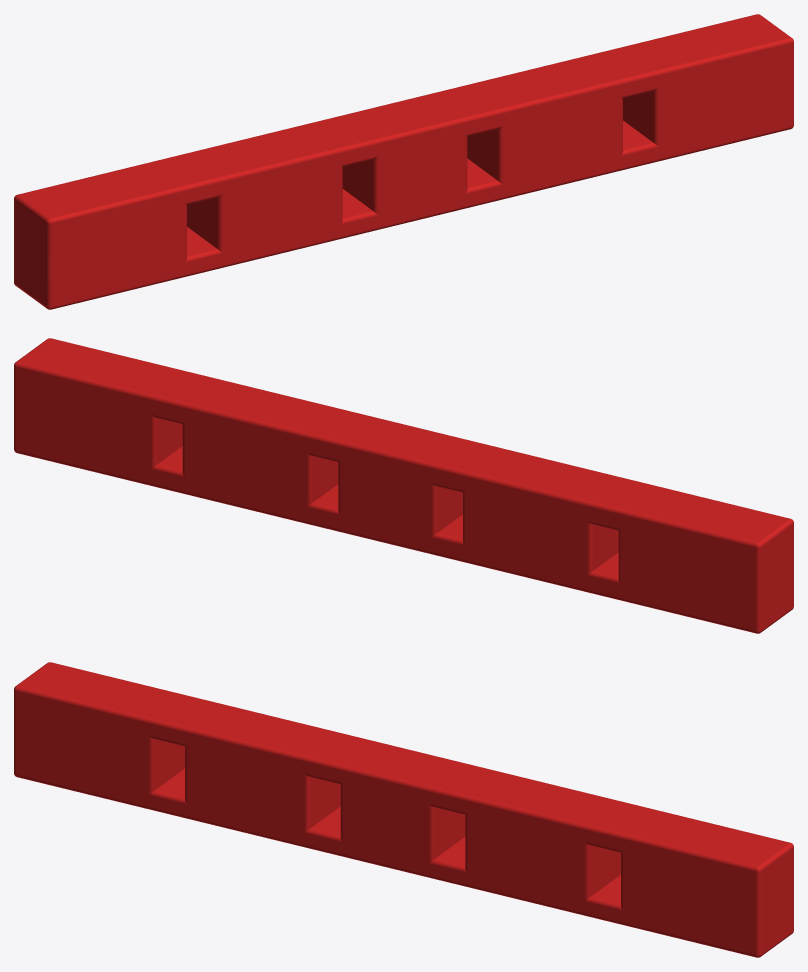
Rendered from 6_colored.obj.
3 views of the same model, one above another, from view 1: azimuth 30°, elevation 25°; view 2: azimuth 150°, elevation 25°; view 3: azimuth 330°, elevation 25° (orthographic).
Size of the model in its own units: 0.1524 by 0.0178 by 0.0127.
